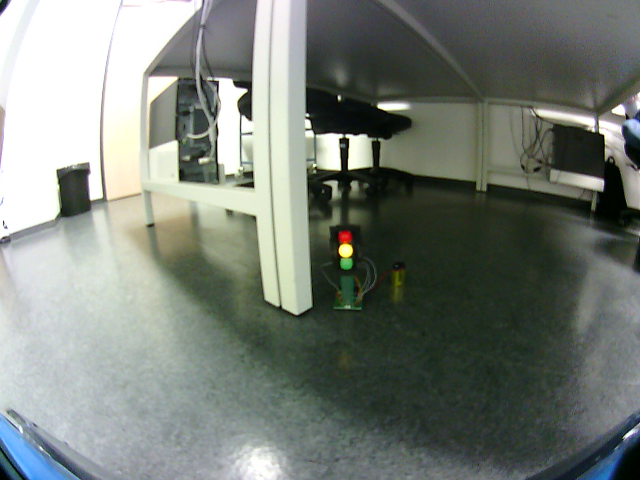yellow trafficlight: (333, 228, 358, 274)
